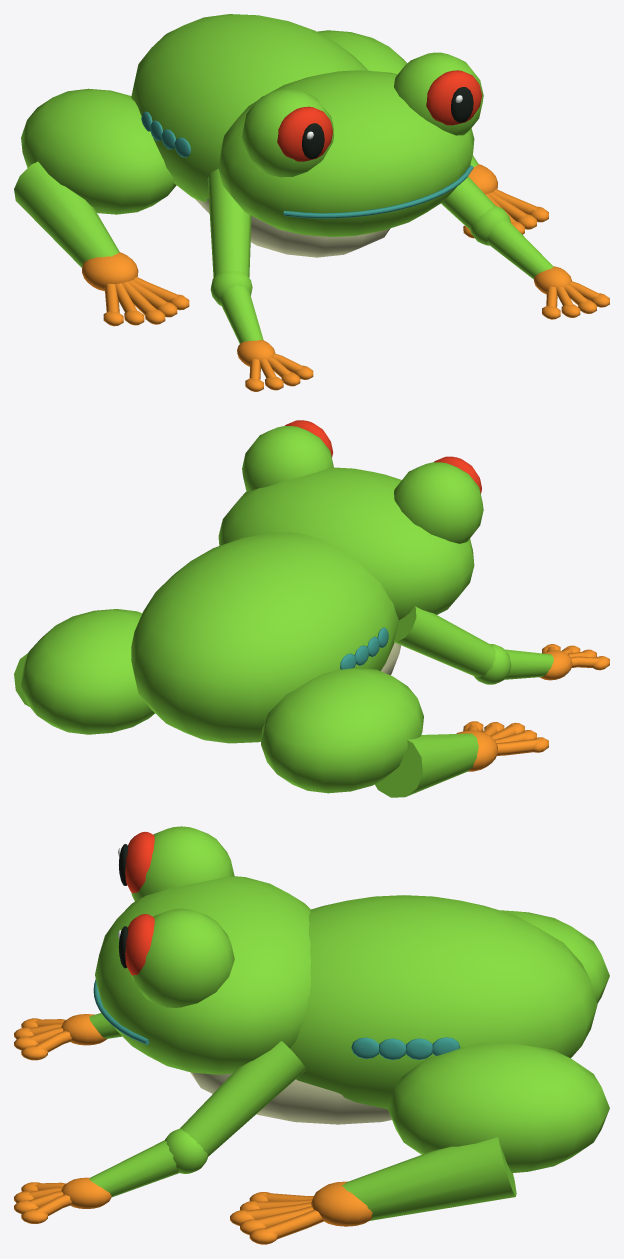
The model's file is frog_red_eyed_tree.glb.
The picture shows the model from 3 angles, top to bottom: view 1: azimuth 30°, elevation 25°; view 2: azimuth 150°, elevation 25°; view 3: azimuth 270°, elevation 25°; orthographic projection. The views are drawn at different scales.
Visible parts, largest first — view 1: Red-eyed tree frog broad head, Red-eyed tree frog torso, Folded frog hind thigh, Bent hind shin, Frog raised eye mound, Frog front upper leg, Frog raised eye mound.001, Red-eyed tree frog pale underside, Folded frog hind thigh.001, Frog forearm.001, Frog colored iris.001, Frog colored iris (+11 smaller); view 2: Red-eyed tree frog torso, Red-eyed tree frog broad head, Folded frog hind thigh, Folded frog hind thigh.001, Frog raised eye mound, Frog raised eye mound.001, Bent hind shin, Frog front upper leg, Frog forearm, Rear frog ankle, Frog elbow, Front frog wrist (+1 smaller); view 3: Red-eyed tree frog torso, Red-eyed tree frog broad head, Folded frog hind thigh.001, Bent hind shin.001, Frog raised eye mound.001, Frog front upper leg.001, Frog raised eye mound, Red-eyed tree frog pale underside, Frog forearm.001, Folded frog hind thigh, Rear frog ankle.001, Frog colored iris.001 (+5 smaller).
Part boxes in pixels (x1,y1,x2,y2): Red-eyed tree frog broad head: (218,70,474,237); Red-eyed tree frog torso: (131,14,368,202); Folded frog hind thigh: (21,88,176,214); Bent hind shin: (14,161,119,267); Frog raised eye mound: (242,89,333,177); Frog front upper leg: (207,169,251,277); Frog raised eye mound.001: (394,52,483,135); Red-eyed tree frog pale underside: (195,198,390,257); Folded frog hind thigh.001: (317,30,407,74); Frog forearm.001: (487,220,553,279); Frog colored iris.001: (426,70,481,125); Frog colored iris: (277,106,332,161); Red-eyed tree frog torso: (131,532,398,743); Red-eyed tree frog broad head: (218,467,474,620); Folded frog hind thigh: (261,667,423,793); Folded frog hind thigh.001: (21,609,154,734); Frog raised eye mound: (394,462,483,543); Frog raised eye mound.001: (242,426,333,491); Bent hind shin: (375,733,478,797); Frog front upper leg: (394,606,495,677); Frog forearm: (504,649,553,679); Rear frog ankle: (456,730,497,771); Frog elbow: (474,644,511,684); Front frog wrist: (540,650,572,680); Red-eyed tree frog torso: (290,895,597,1109); Red-eyed tree frog broad head: (95,876,310,1074); Folded frog hind thigh.001: (387,1042,609,1172); Bent hind shin.001: (342,1137,516,1220); Frog raised eye mound.001: (131,908,234,1007); Frog front upper leg.001: (180,1041,305,1156); Frog raised eye mound: (131,826,234,901); Red-eyed tree frog pale underside: (190,1072,391,1124); Frog forearm.001: (89,1140,179,1197); Folded frog hind thigh: (500,910,609,1003); Rear frog ankle.001: (311,1181,372,1226); Frog colored iris.001: (125,914,154,975).
Bounding box in the file's own units: 0.1259 × 0.0614 × 0.1302.
